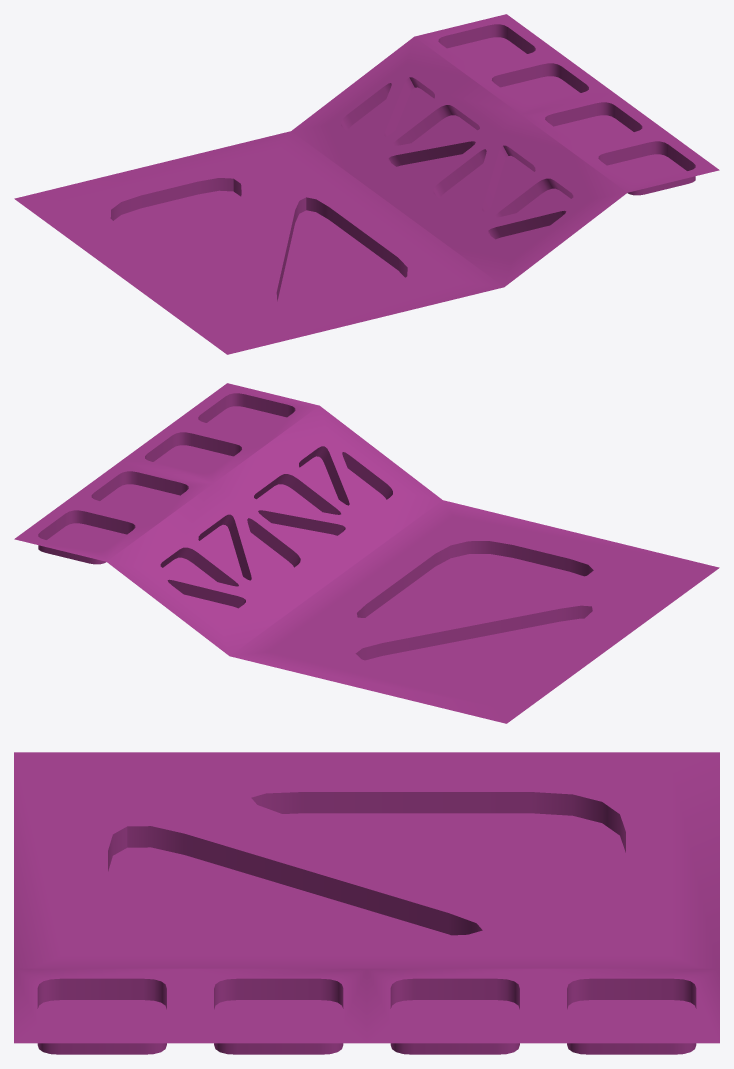
The model's file is Cealing_Tranzite_A.FBX.
The picture shows the model from 3 angles, top to bottom: view 1: azimuth 30°, elevation 25°; view 2: azimuth 150°, elevation 25°; view 3: azimuth 270°, elevation 25°; orthographic projection. The views are drawn at different scales.
Parts seen in each view (by area): view 1: Cealing_Tranzite_A; view 2: Cealing_Tranzite_A; view 3: Cealing_Tranzite_A.
Part boxes in pixels (<box>): Cealing_Tranzite_A: <box>14,14,719,354</box>; Cealing_Tranzite_A: <box>14,383,719,723</box>; Cealing_Tranzite_A: <box>14,752,719,1054</box>.
Bounding box in the file's own units: 400 × 60 × 300.
